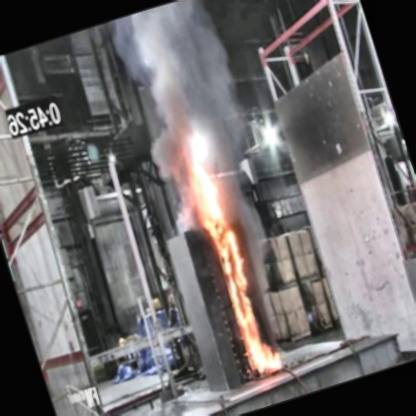fire: (195, 189, 282, 361)
smoke: (111, 0, 259, 205)
